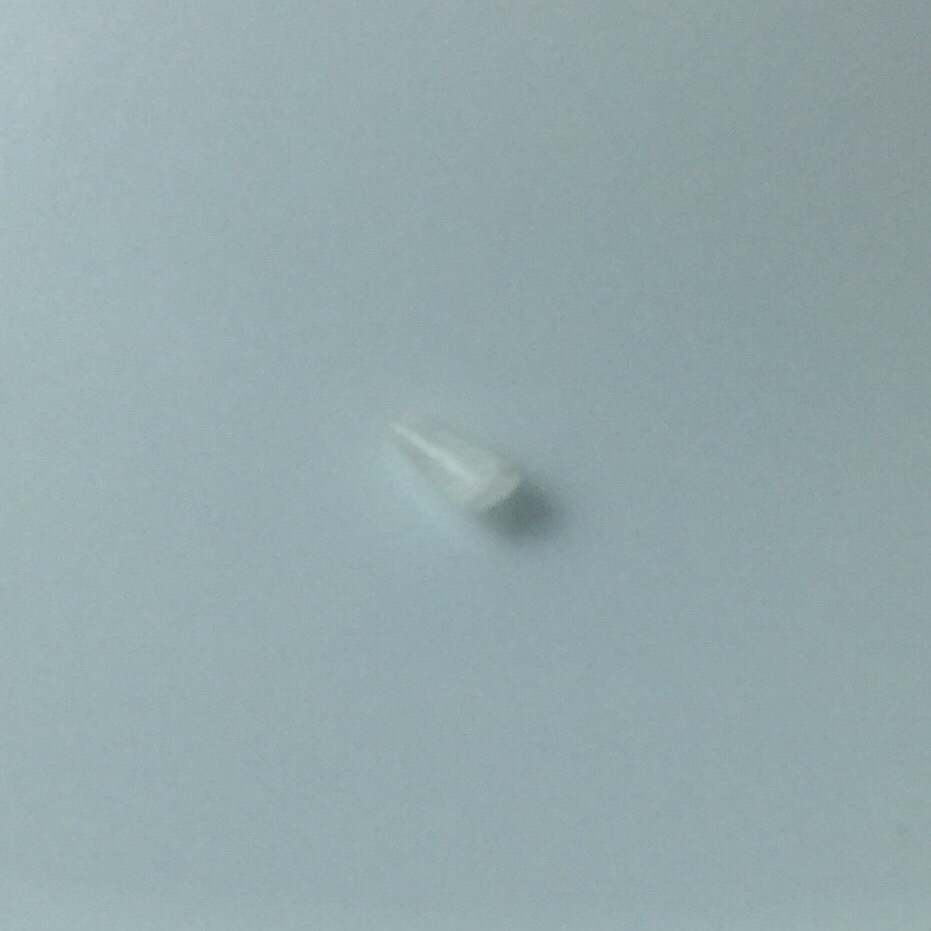Gao Tam: (368, 391, 537, 534)
